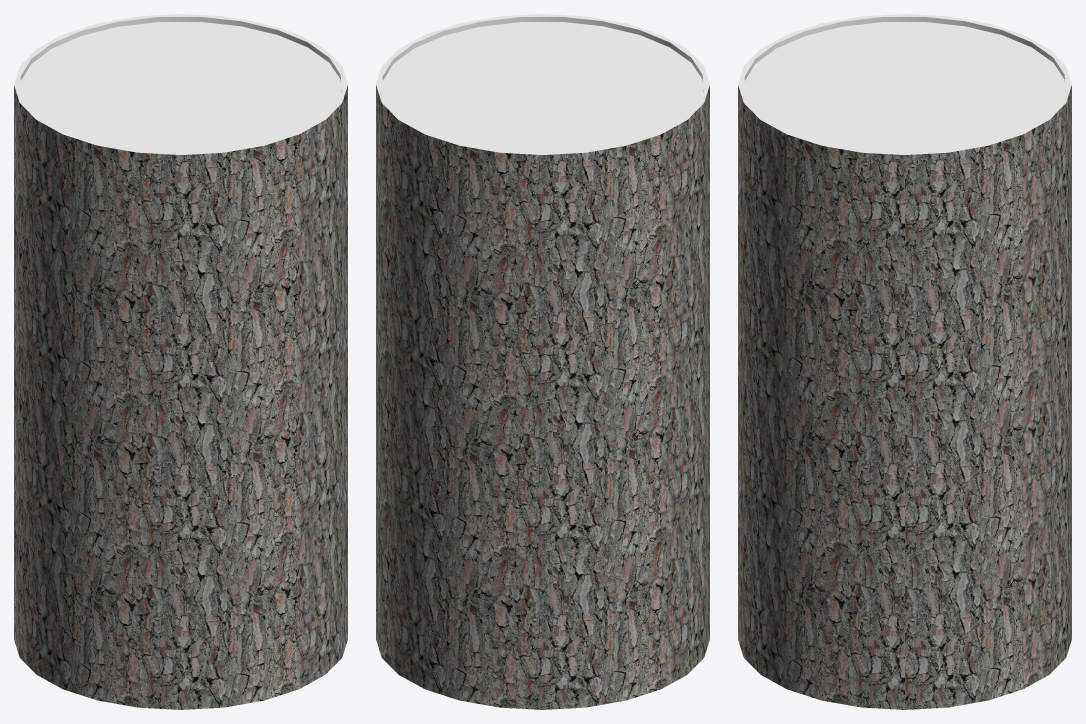
File: WoodTrunk.fbx
The picture shows the model from 3 angles, left to right: view 1: azimuth 30°, elevation 25°; view 2: azimuth 150°, elevation 25°; view 3: azimuth 270°, elevation 25°; orthographic projection.
Parts seen in each view (by area): view 1: Model; view 2: Model; view 3: Model.
Boxes of the visible parts, <box> form: Model: <box>14,14,347,709</box>; Model: <box>376,14,709,709</box>; Model: <box>738,14,1071,709</box>.
Size of the model in its own units: 0.6 by 1.1 by 0.6.
